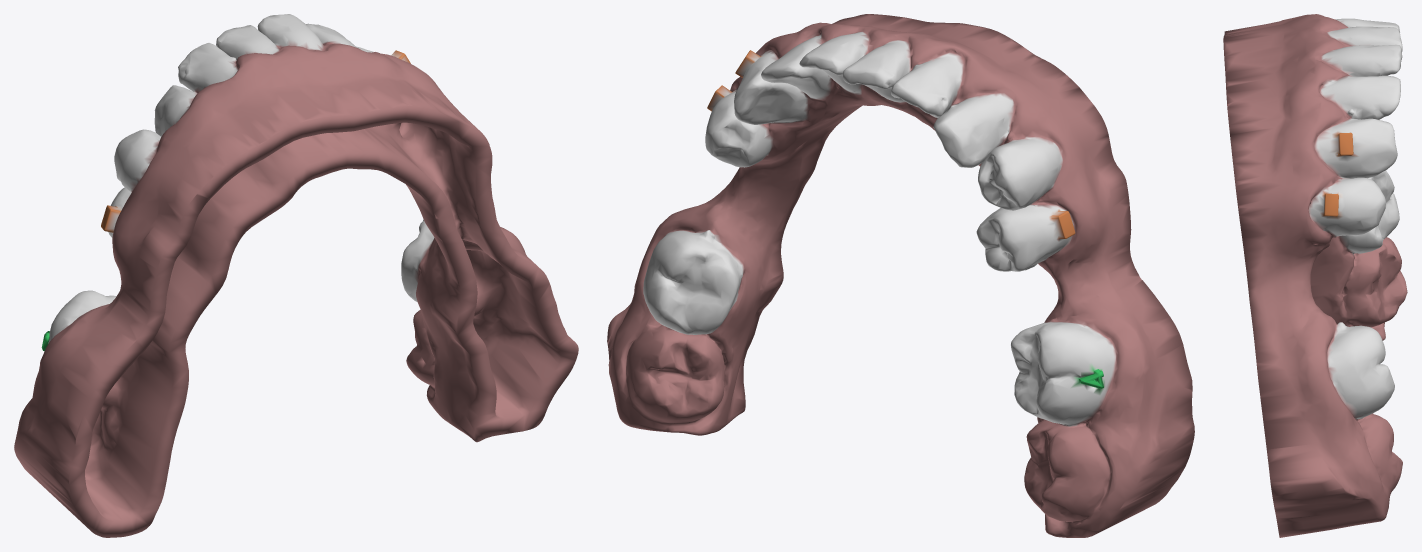
File: lower-model-4.glb
3 views of the same model, side by side, from view 1: azimuth 30°, elevation 25°; view 2: azimuth 150°, elevation 25°; view 3: azimuth 270°, elevation 25° (orthographic). The views are drawn at different scales.
Visible parts, largest first — view 1: 4 (1); view 2: 4 (1); view 3: 4 (1).
Boxes of the visible parts, box(x1,y1,x2,y2) form: 4 (1): box(14, 14, 578, 537); 4 (1): box(607, 14, 1194, 537); 4 (1): box(1223, 14, 1407, 537).
Size of the model in its own units: 64.22 by 50.08 by 20.71.
